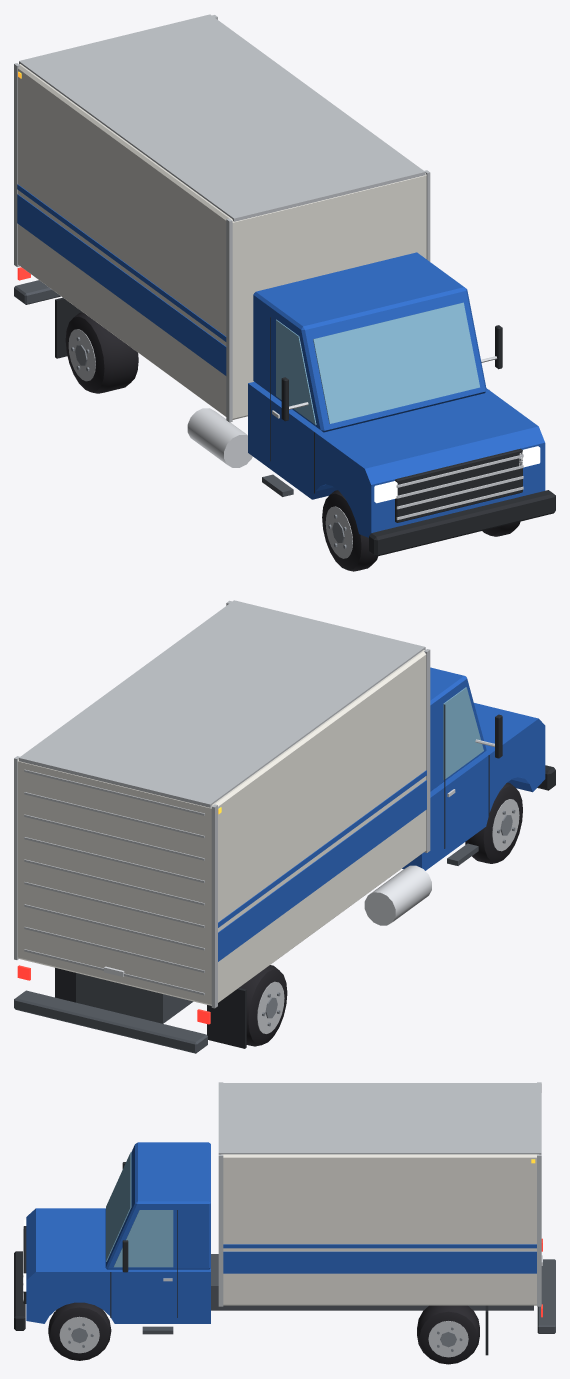
Rendered from veh_boxtruck.glb.
3 renders of one model, top to bottom at view 1: azimuth 30°, elevation 25°; view 2: azimuth 150°, elevation 25°; view 3: azimuth 270°, elevation 25°, orthographic. The views are drawn at different scales.
Parts seen in each view (by area): view 1: Body, Wheel_2R, Wheel_1R; view 2: Body, Wheel_2R, Wheel_1R; view 3: Body, Wheel_2L, Wheel_1L.
Part boxes in pixels (box(x1,y1,x2,y2)): Body: box(14, 14, 555, 556); Wheel_2R: box(65, 312, 138, 393); Wheel_1R: box(322, 490, 377, 571); Body: box(14, 600, 555, 1053); Wheel_2R: box(239, 965, 287, 1046); Wheel_1R: box(465, 782, 522, 863); Body: box(14, 1082, 555, 1355); Wheel_2L: box(417, 1305, 479, 1364); Wheel_1L: box(48, 1302, 111, 1360).
Bounding box in the file's own units: 2.76 × 3.47 × 7.92.
